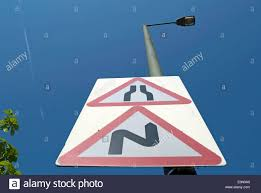Double_bend_right: (56, 104, 224, 165)
